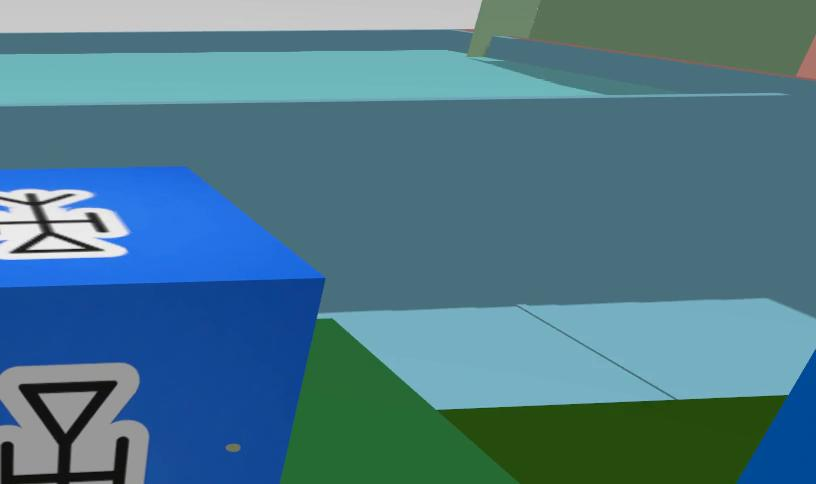KFS_REAL: (0, 168, 324, 484), (0, 363, 147, 484), (0, 189, 128, 260)
